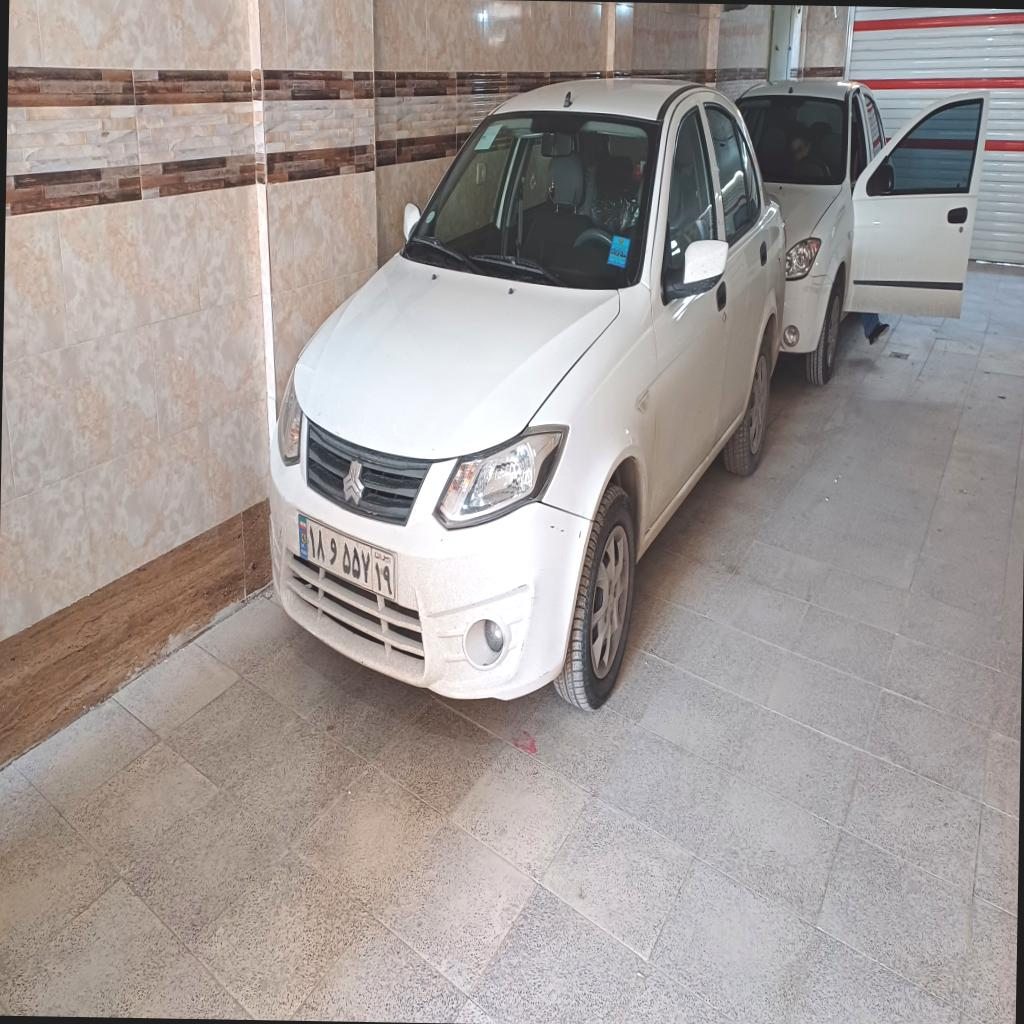Plates: (296, 512, 396, 600)
